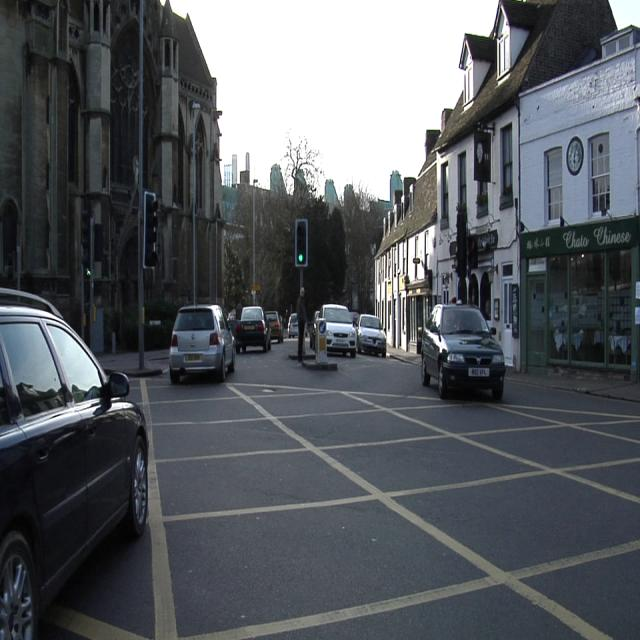Building: (436, 0, 615, 345), (1, 4, 140, 348), (521, 25, 639, 375), (226, 132, 383, 312), (143, 2, 222, 306), (375, 134, 438, 350), (222, 183, 289, 311)
Car: (1, 287, 147, 639), (422, 305, 505, 399), (170, 305, 236, 382), (232, 307, 283, 351), (318, 305, 355, 356), (358, 316, 386, 355), (287, 314, 298, 337)
Road: (41, 342, 639, 635)
Tree: (282, 135, 343, 308), (283, 130, 324, 211)
